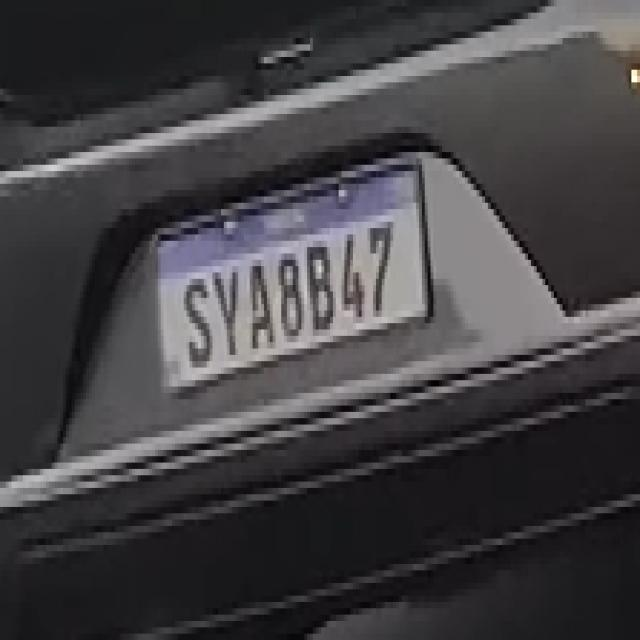Placa_mercosul_carro: (157, 156, 435, 400)
